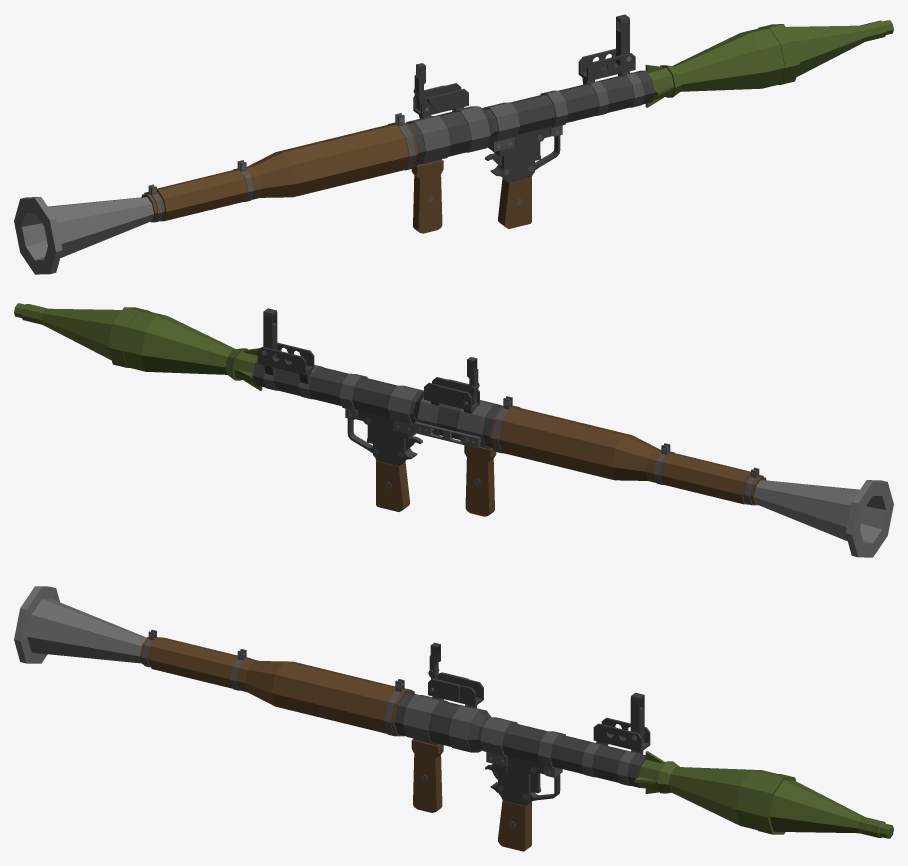
File: rpg7.glb
3 renders of one model, top to bottom at view 1: azimuth 30°, elevation 25°; view 2: azimuth 150°, elevation 25°; view 3: azimuth 330°, elevation 25°, orthographic.
Visible parts, largest first — view 1: Object_2, Object_5, Object_4, Object_6, Object_3; view 2: Object_2, Object_5, Object_4, Object_6, Object_3; view 3: Object_2, Object_5, Object_4, Object_6, Object_3.
Boxes of the visible parts, x1,y1,x2,y2 form: Object_2: [141, 122, 531, 233]; Object_5: [406, 14, 654, 182]; Object_4: [645, 20, 893, 107]; Object_6: [14, 56, 631, 274]; Object_3: [144, 72, 644, 222]; Object_2: [376, 405, 766, 516]; Object_5: [253, 308, 501, 465]; Object_4: [14, 303, 262, 390]; Object_6: [261, 350, 893, 557]; Object_3: [263, 365, 763, 505]; Object_2: [140, 637, 531, 851]; Object_5: [394, 642, 650, 805]; Object_4: [634, 751, 893, 838]; Object_6: [14, 586, 644, 774]; Object_3: [142, 629, 641, 828].
Bounding box in the file's own units: 1.6 × 0.3129 × 0.1359.
